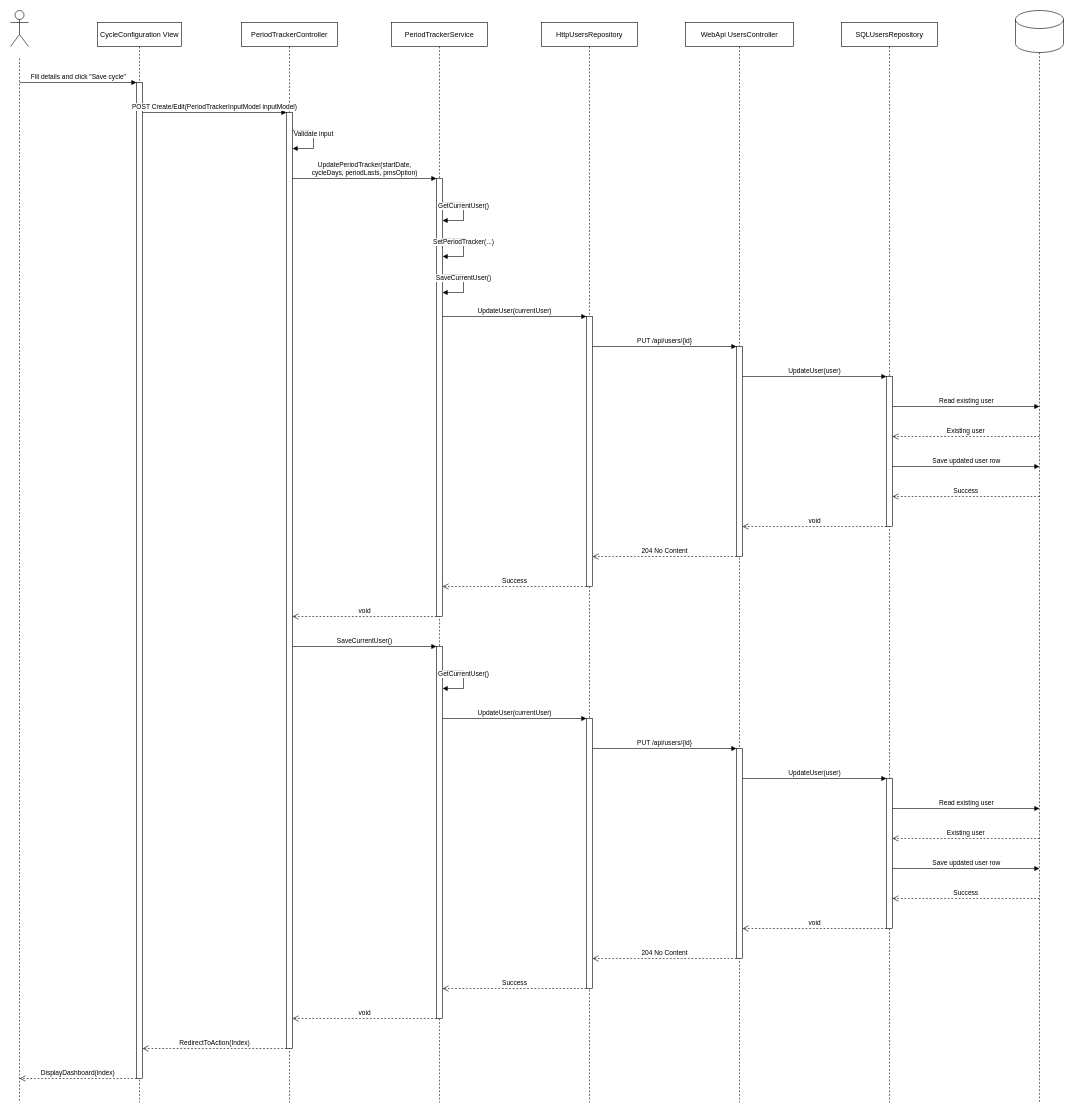
Image size: 1074x1114. Some labels were removed from this diagram. The shapes that lost their labels are listed below. From the top down, each one's box as (x1, y1, x2, y2) in pixels, then its label:
(10, 10, 28, 46): User
(1015, 10, 1064, 52): DB
